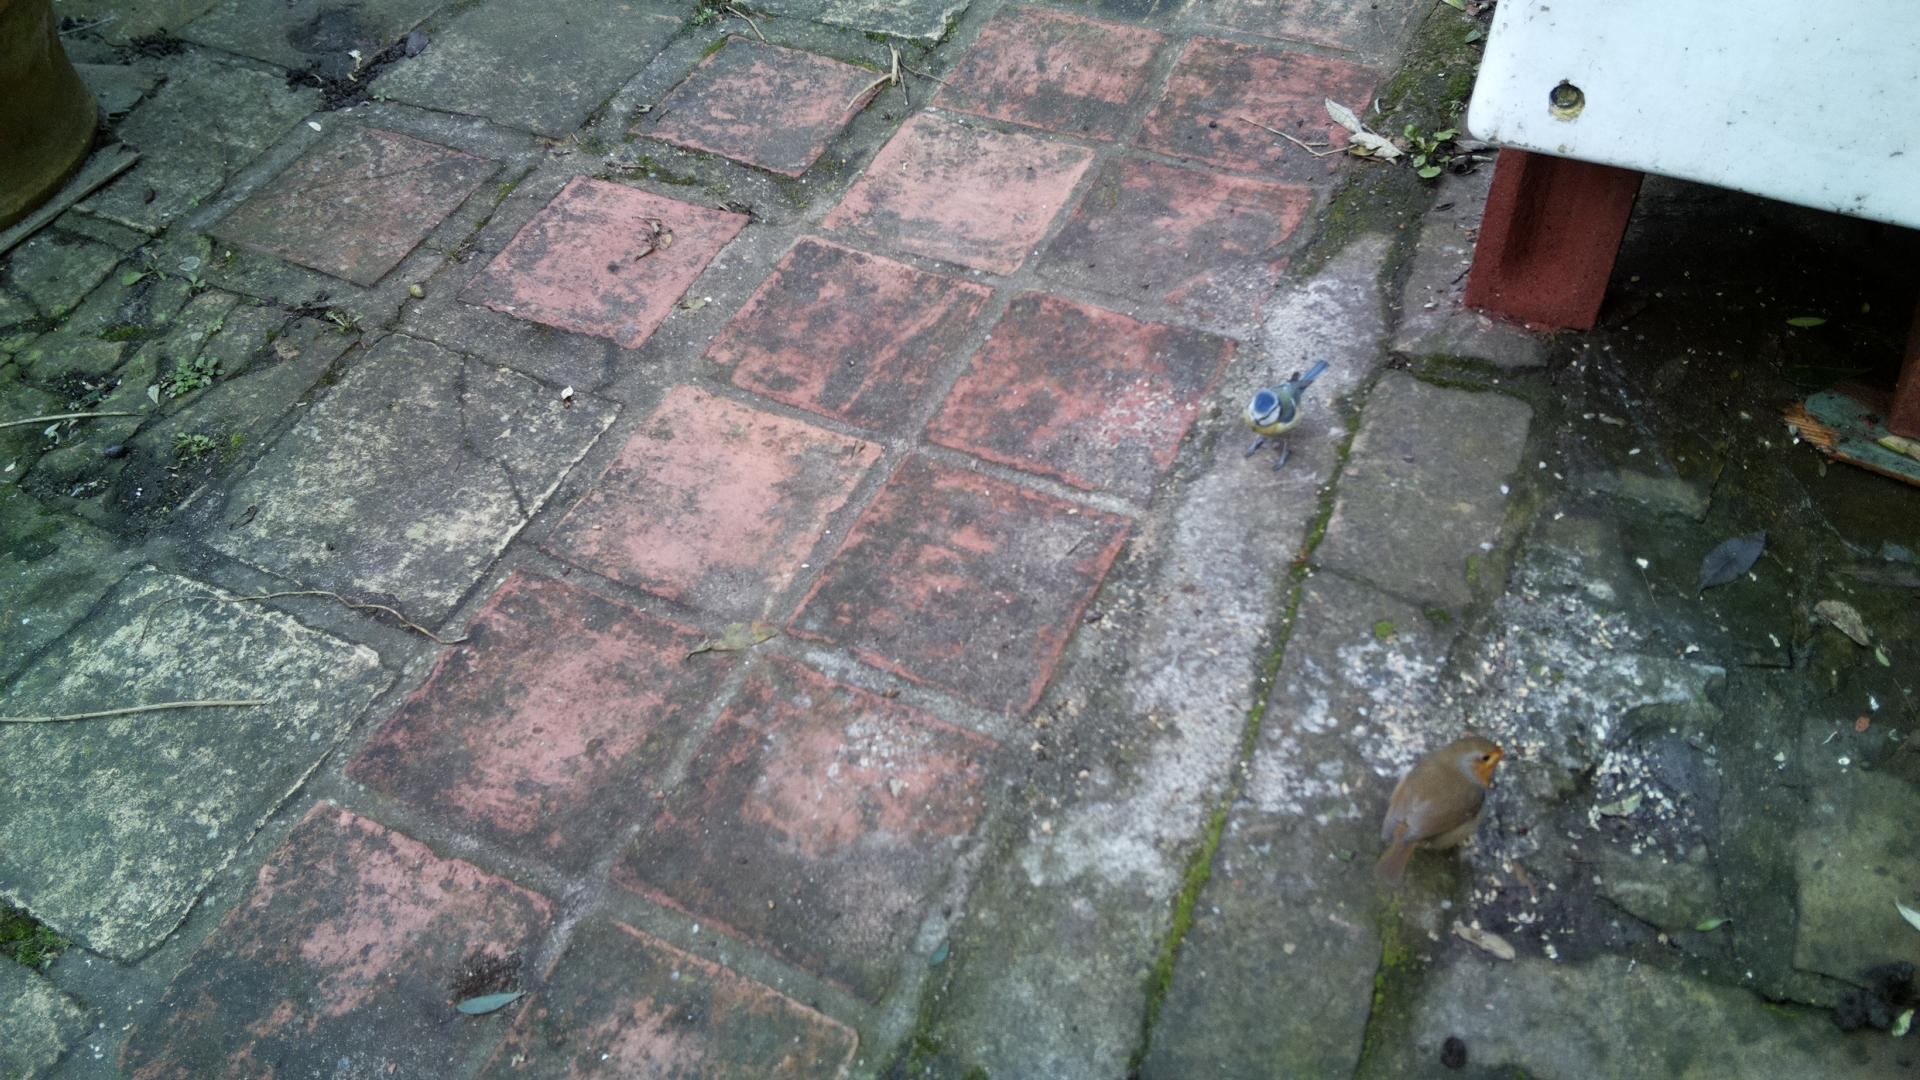blue tit: (1242, 359, 1331, 473)
robin: (1371, 735, 1513, 887)
